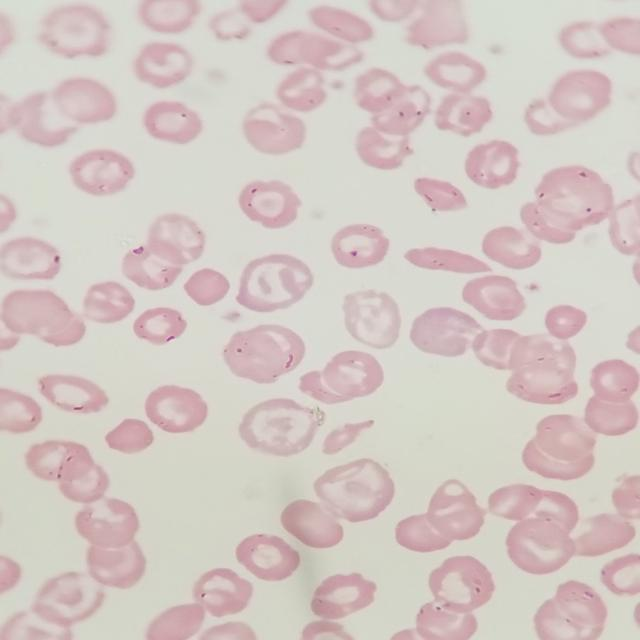sickle cell: (399, 240, 496, 282)
